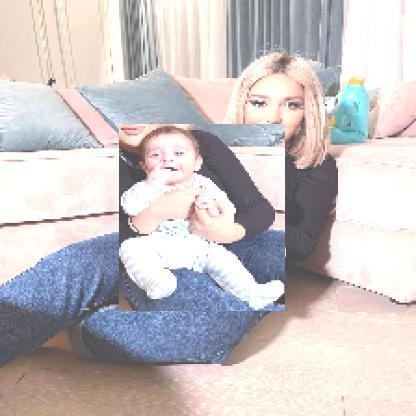child: (120, 125, 287, 313)
